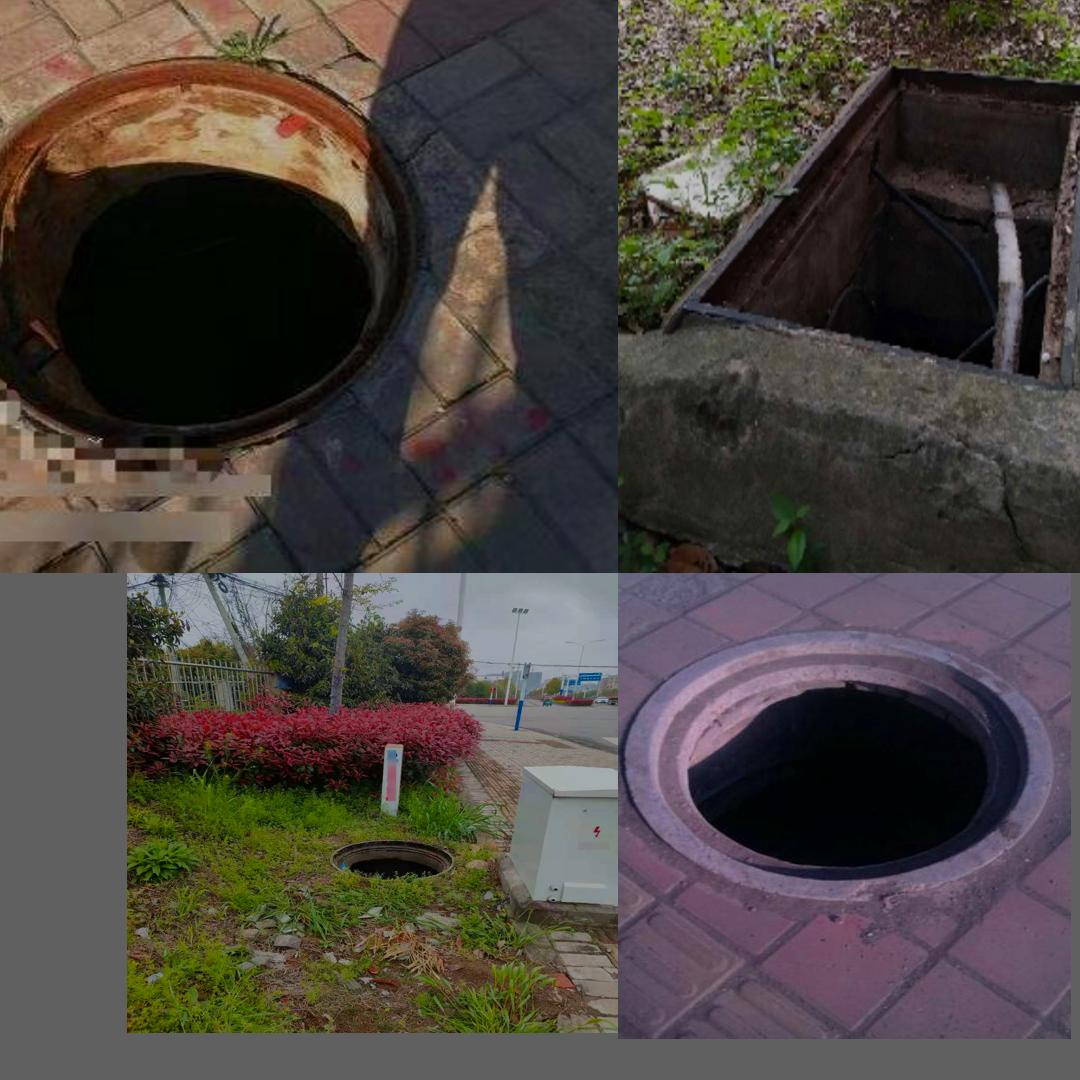lose: (0, 17, 444, 461), (662, 61, 1080, 390), (627, 621, 1058, 901), (319, 829, 463, 889)
